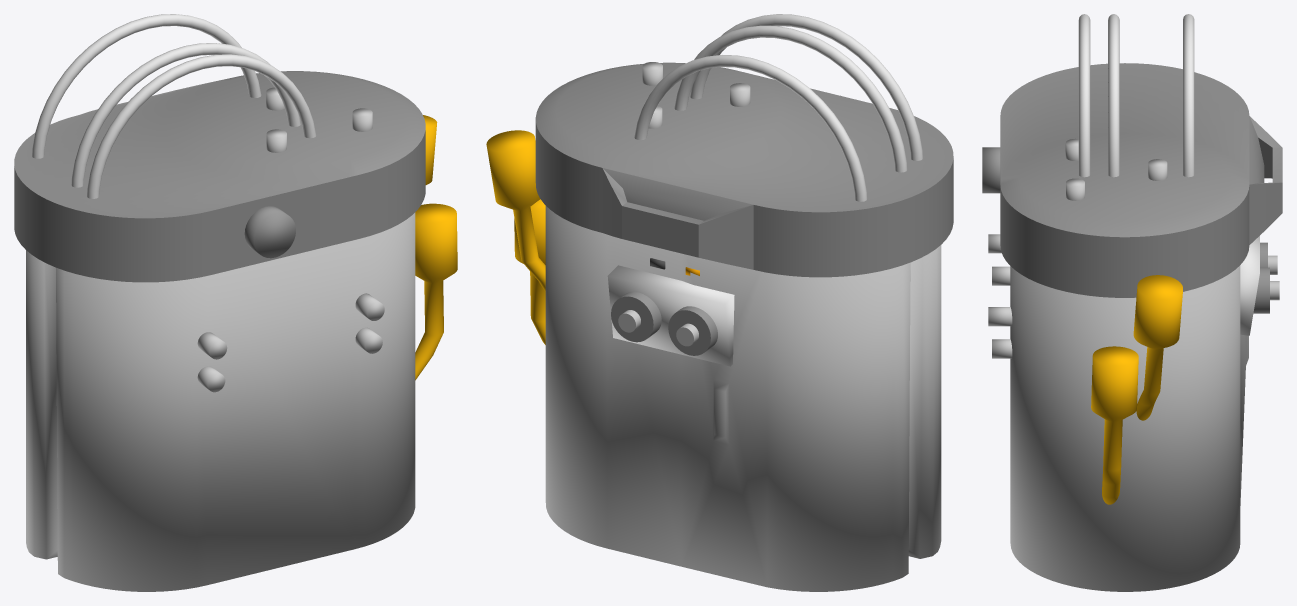
Rendered from 냉각기.fbx.
3 renders of one model, left to right at view 1: azimuth 30°, elevation 25°; view 2: azimuth 150°, elevation 25°; view 3: azimuth 270°, elevation 25°, orthographic. The views are drawn at different scales.
Parts seen in each view (by area): view 1: TopCover.001; view 2: TopCover.001; view 3: TopCover.001.
Part boxes in pixels (x1,y1,x2,y2): TopCover.001: (14,14,457,591); TopCover.001: (486,14,953,591); TopCover.001: (982,14,1282,591).
Size of the model in its own units: 240 by 274 by 157.
